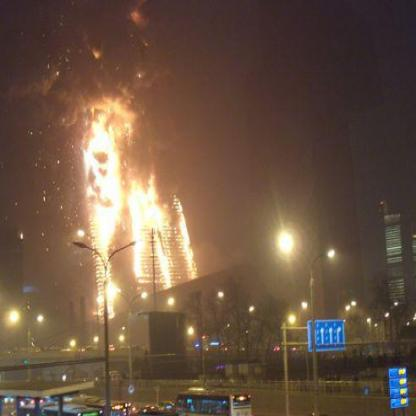fire: (72, 115, 212, 310)
other: (340, 288, 406, 330), (107, 283, 150, 306), (273, 220, 295, 262), (283, 294, 310, 326), (314, 238, 343, 265), (5, 300, 25, 322), (87, 286, 107, 306), (30, 309, 46, 329), (114, 329, 134, 343), (214, 282, 226, 301), (185, 324, 199, 337), (74, 226, 86, 241), (62, 334, 78, 345), (90, 331, 102, 344), (244, 304, 256, 315)
